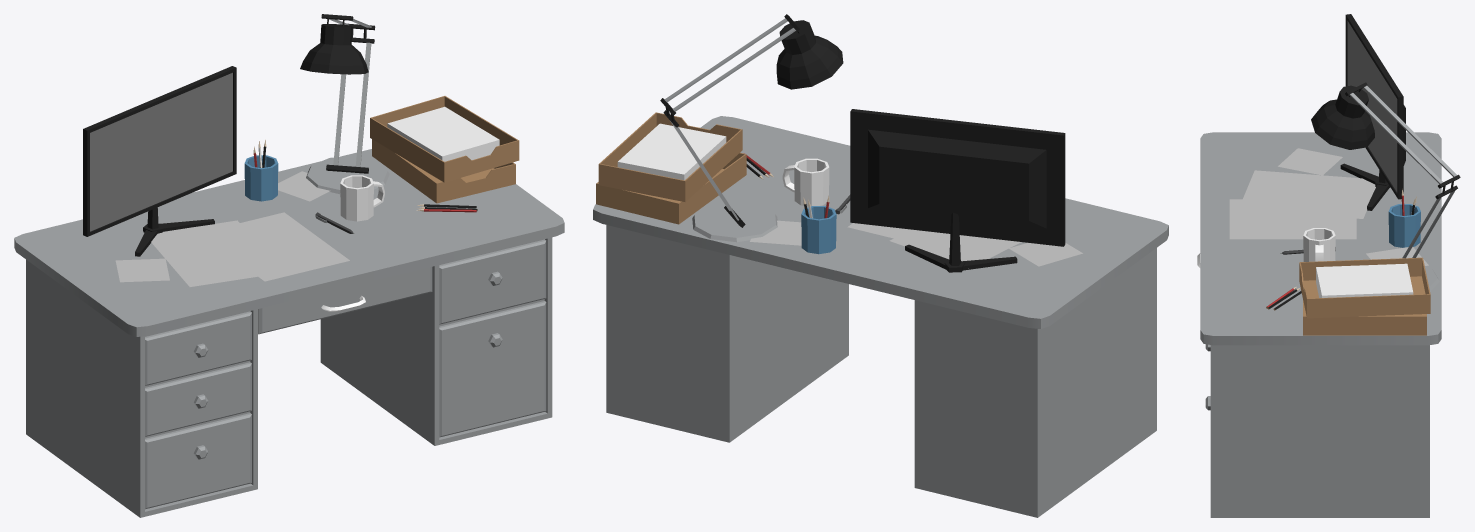
Rendered from SM_desk_template_01.fbx.
3 renders of one model, left to right at view 1: azimuth 30°, elevation 25°; view 2: azimuth 150°, elevation 25°; view 3: azimuth 270°, elevation 25°, orthographic. The views are drawn at different scales.
Visible parts, largest first — view 1: Box260; view 2: Box260; view 3: Box260.
Boxes of the visible parts, bbox=[...] form: Box260: bbox=[14, 14, 564, 517]; Box260: bbox=[593, 14, 1168, 517]; Box260: bbox=[1197, 14, 1460, 517].
Size of the model in its own units: 84.61 by 70 by 45.69.
